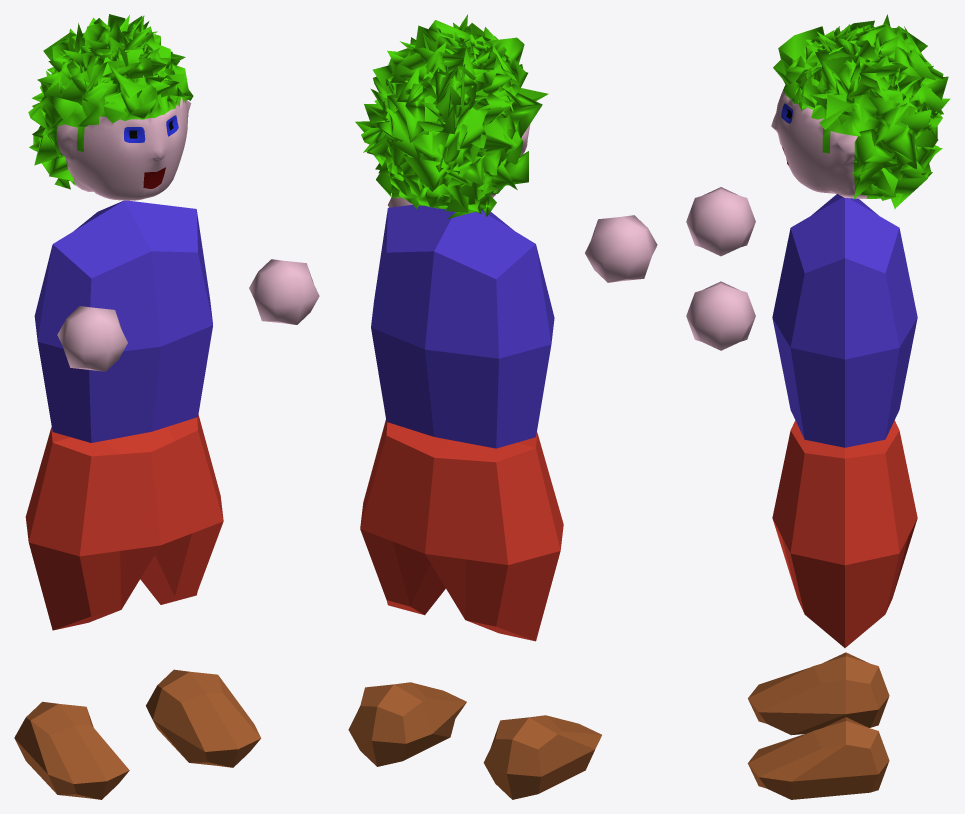
The model's file is PNJ male.fbx.
3 views of the same model, side by side, from view 1: azimuth 30°, elevation 25°; view 2: azimuth 150°, elevation 25°; view 3: azimuth 270°, elevation 25° (orthographic). The views are drawn at different scales.
Parts seen in each view (by area): view 1: Corps, Tête, Chaussure gauche, Chaussur droite, bras droit, bras gauche; view 2: Corps, Tête, Chaussur droite, Chaussure gauche, bras droit; view 3: Corps, Tête, Chaussure gauche, Chaussur droite, bras gauche, bras droit.
Boxes of the visible parts, <box> form: Corps: <box>25,200,223,630</box>; Tête: <box>28,14,193,200</box>; Chaussure gauche: <box>146,669,261,767</box>; Chaussur droite: <box>14,701,129,799</box>; bras droit: <box>57,306,127,371</box>; bras gauche: <box>249,259,319,324</box>; Corps: <box>360,204,563,641</box>; Tête: <box>355,14,548,218</box>; Chaussur droite: <box>483,715,601,799</box>; Chaussure gauche: <box>348,682,466,766</box>; bras droit: <box>585,215,657,282</box>; Corps: <box>772,194,917,647</box>; Tête: <box>771,14,950,209</box>; Chaussure gauche: <box>747,717,889,799</box>; Chaussur droite: <box>748,652,889,735</box>; bras gauche: <box>686,281,755,350</box>; bras droit: <box>686,187,755,256</box>.
Bounding box in the file's own units: 202 × 561 × 182.
